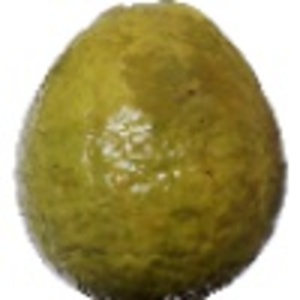goiaba: (8, 6, 288, 293)
